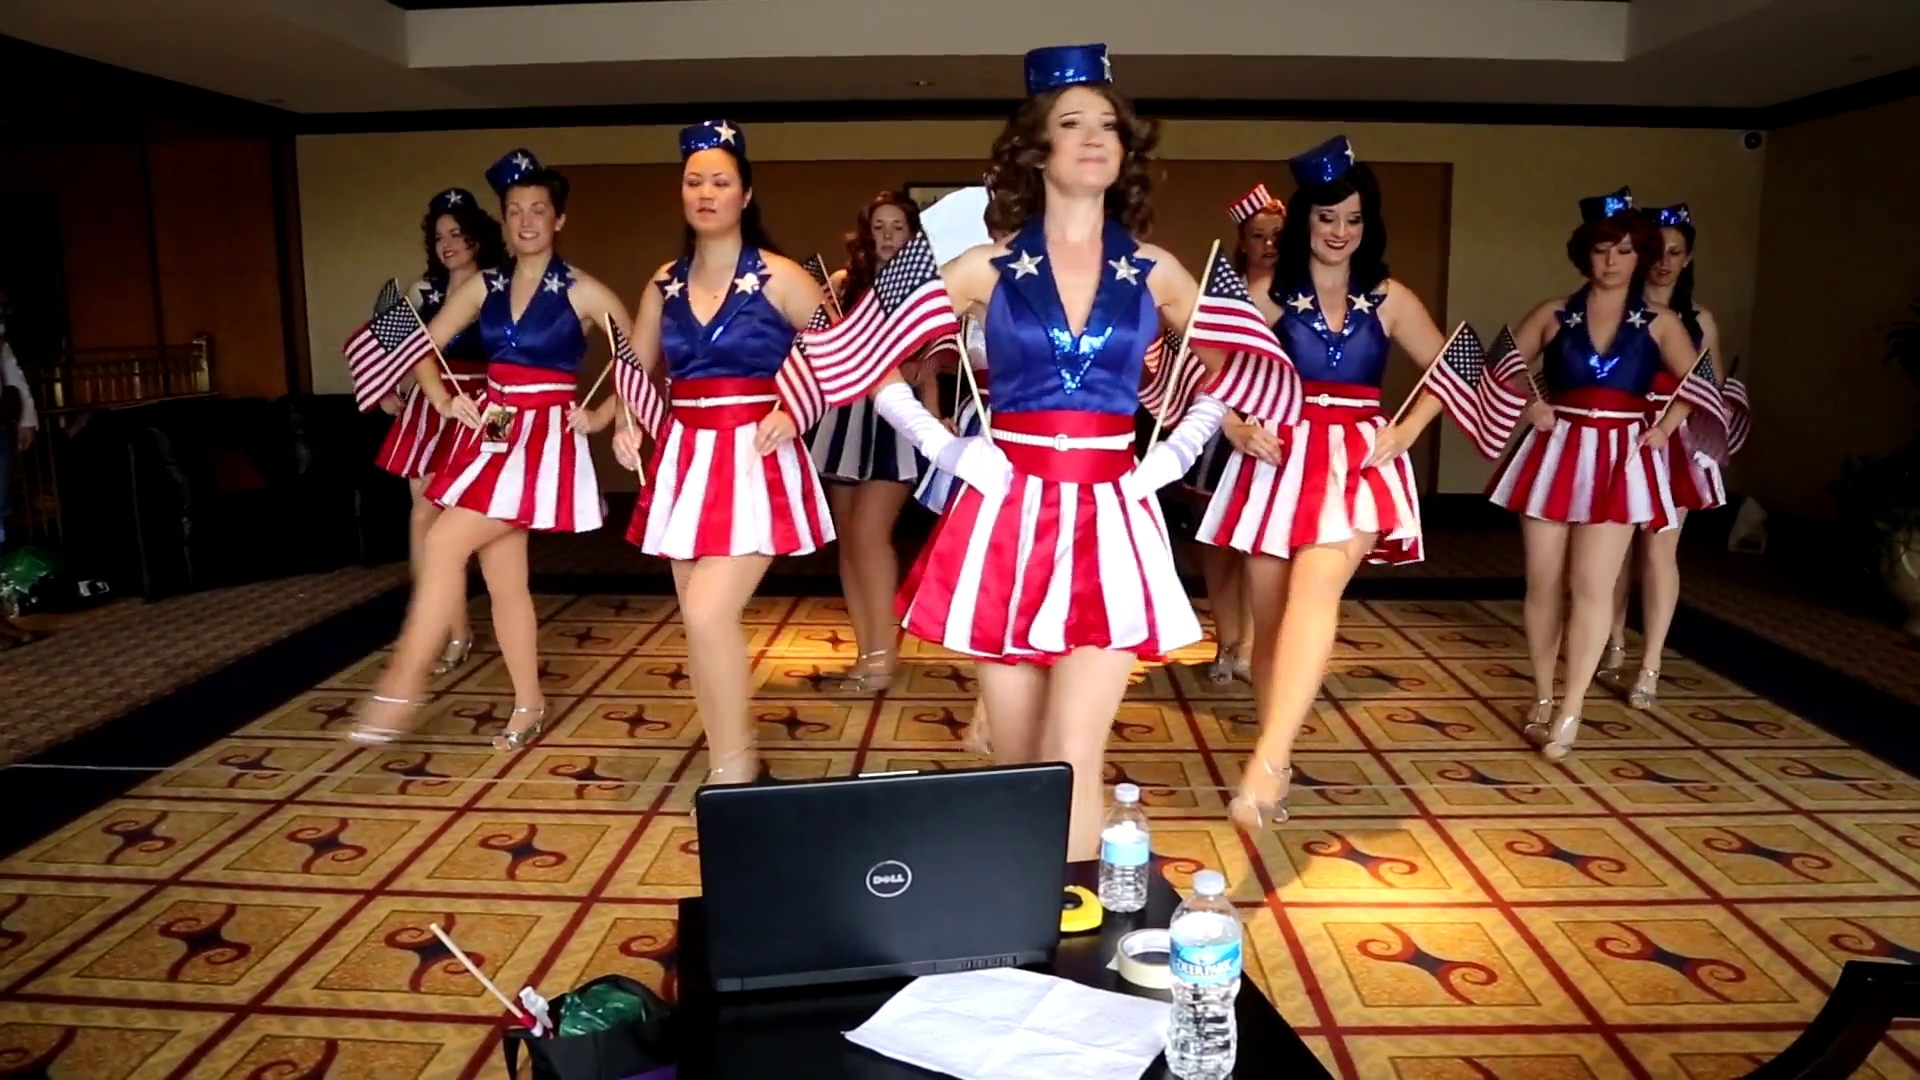person: (868, 42, 1228, 864), (346, 150, 633, 750), (1221, 134, 1453, 829), (611, 119, 838, 816), (1501, 186, 1678, 760), (1597, 202, 1729, 710), (402, 187, 521, 675)
